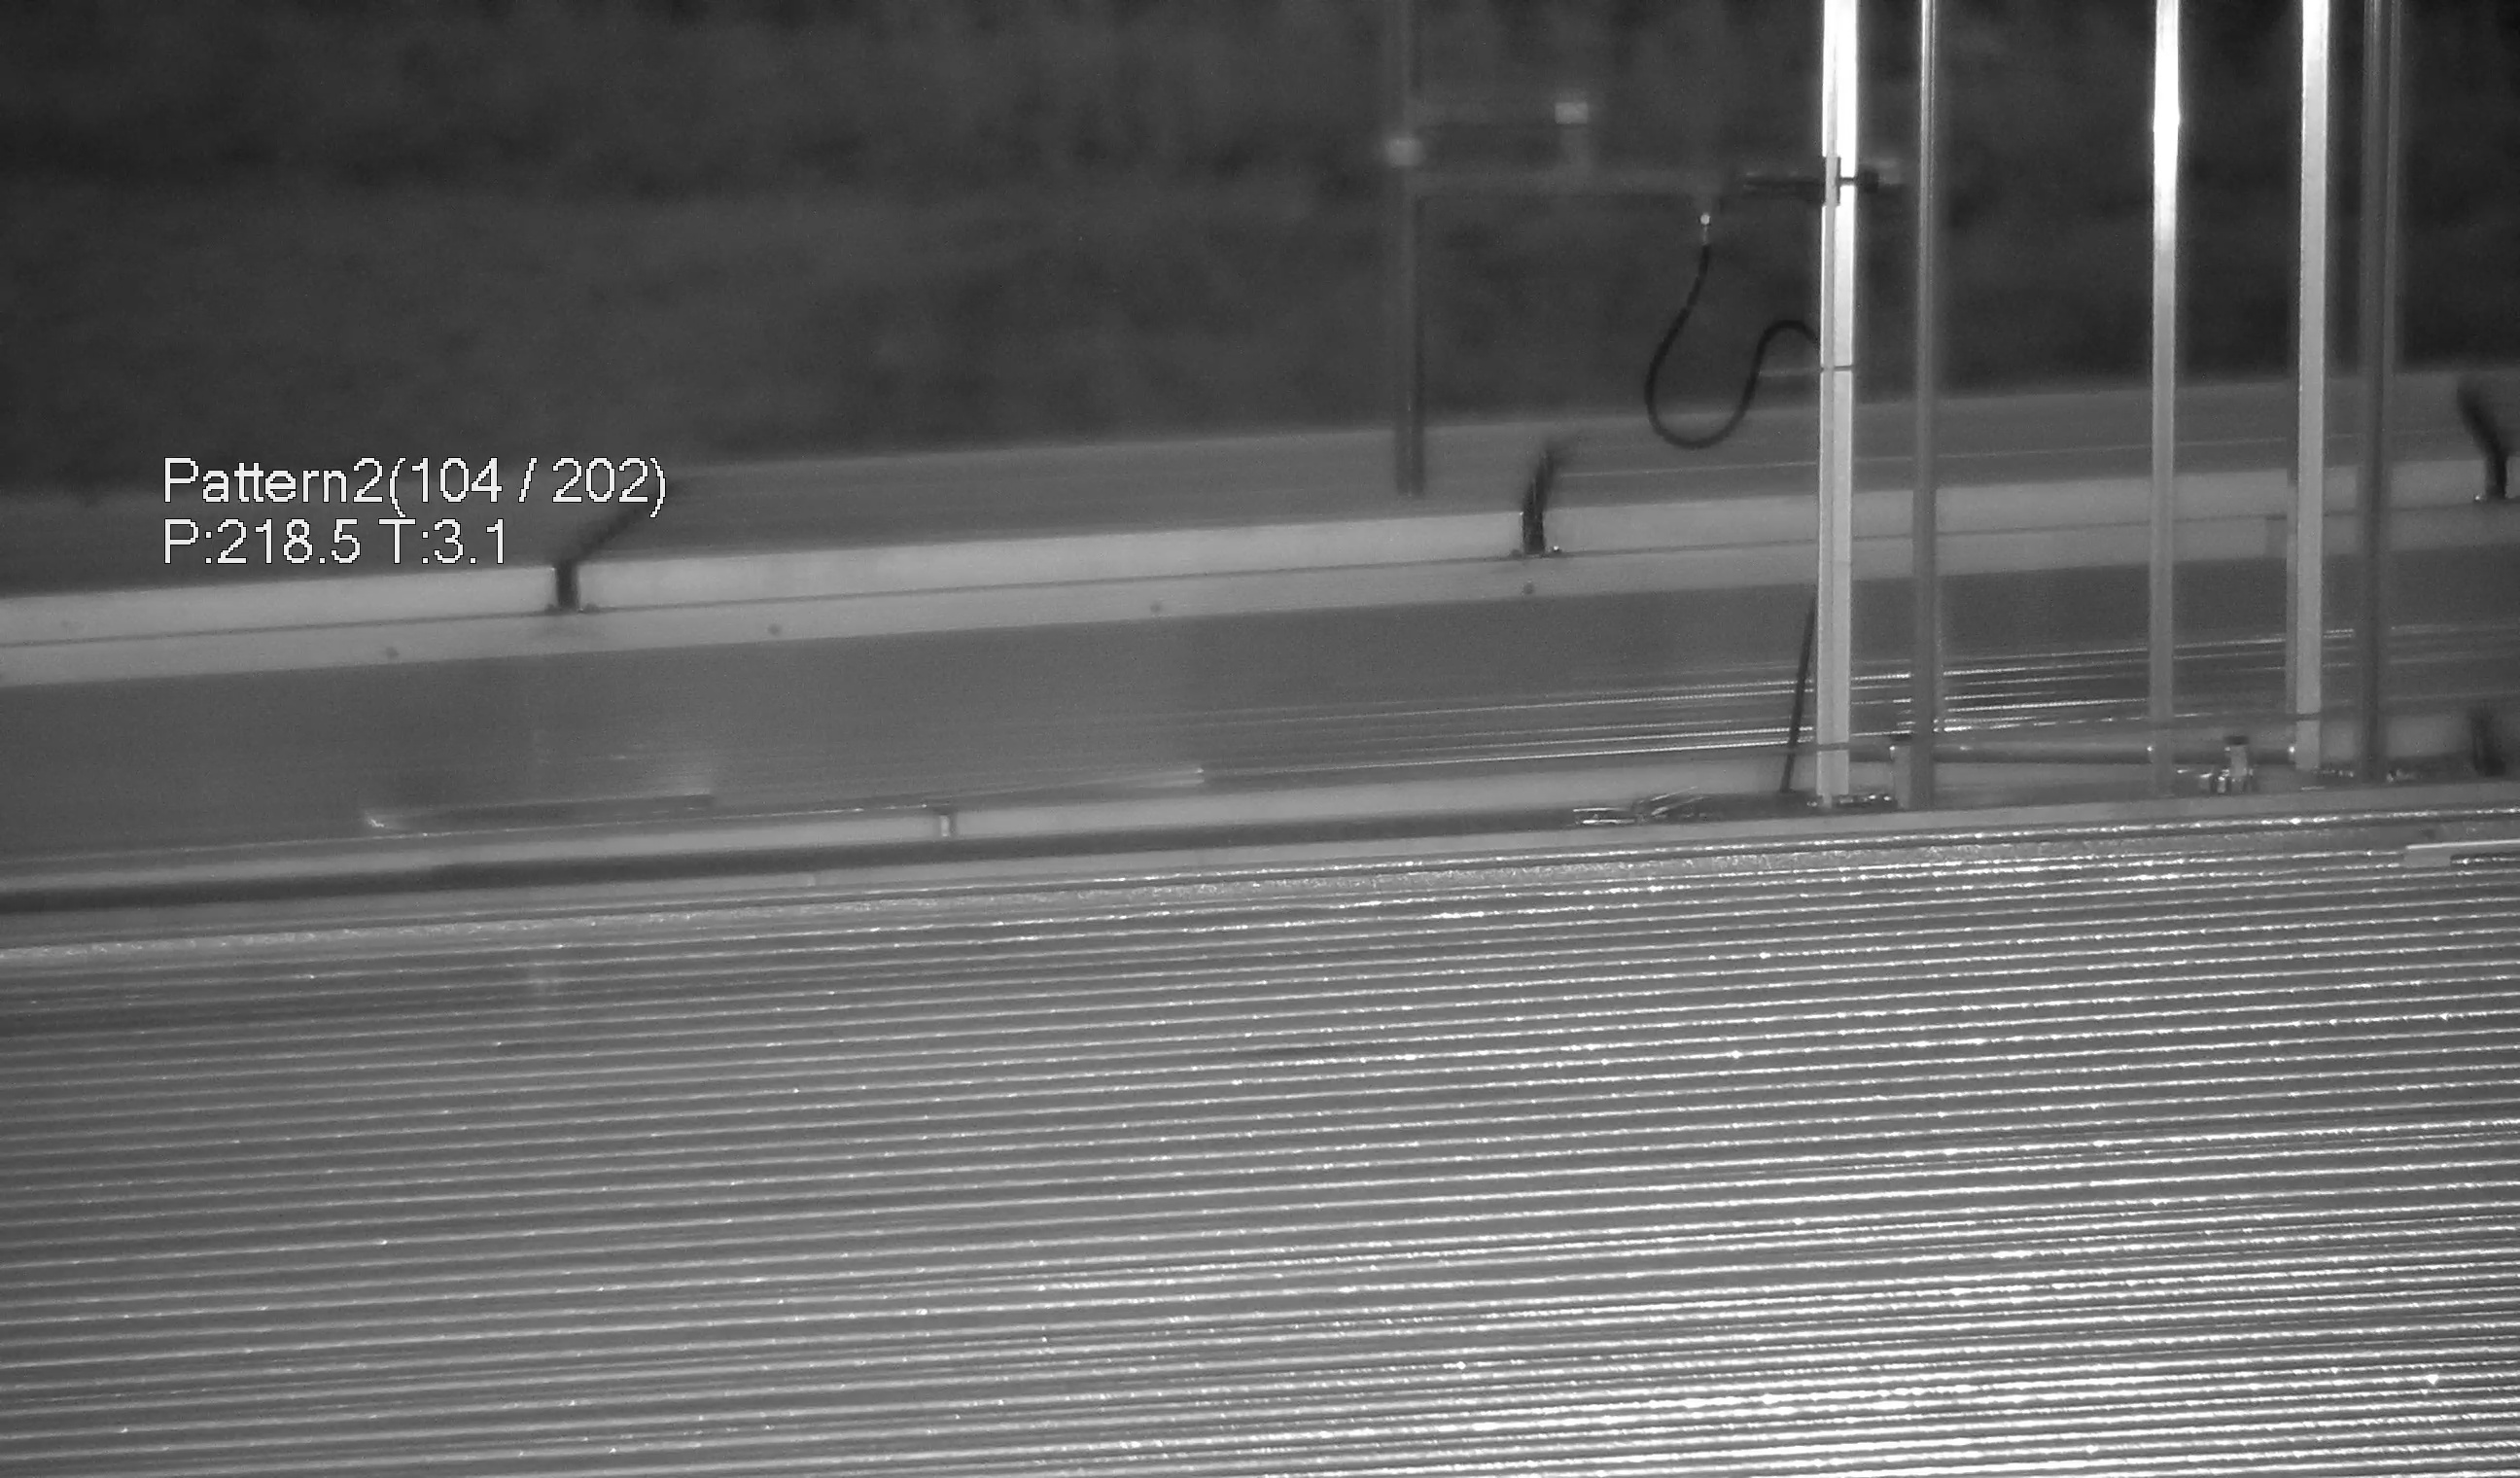Other: (1504, 426, 1584, 560)
